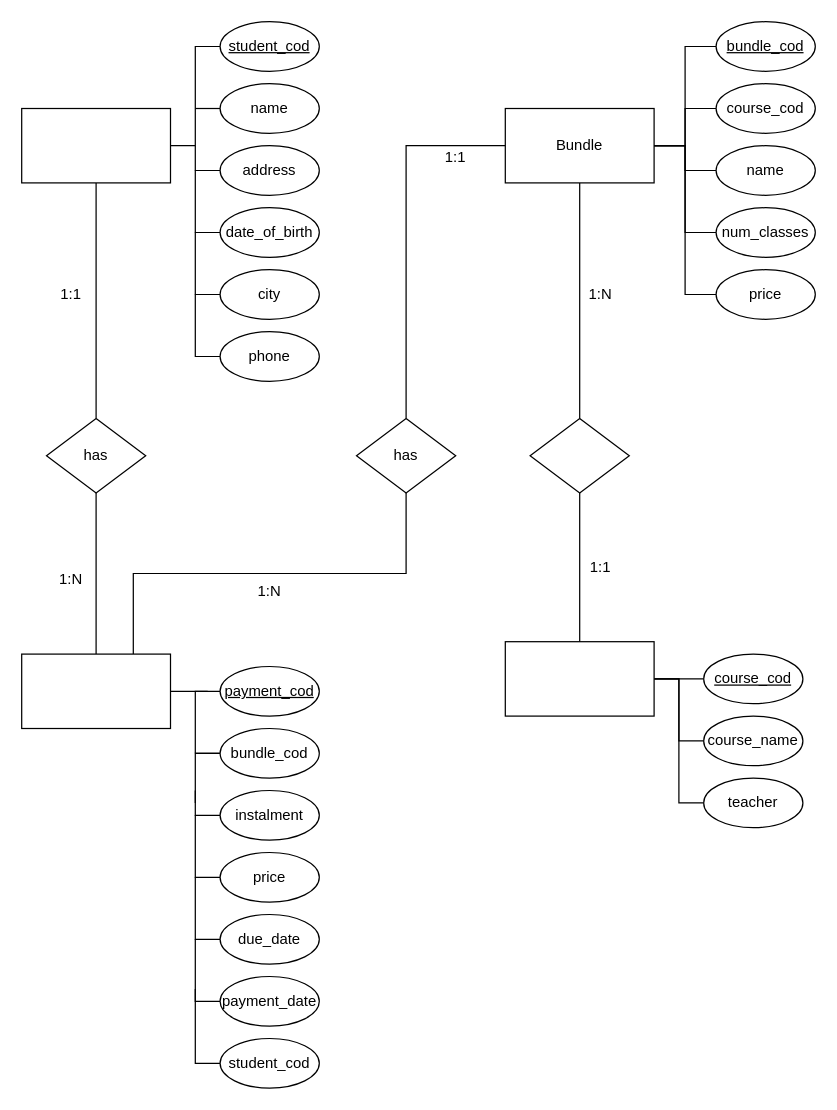
Some shapes in this 837 by 1110 pixel diagram are drawn without their labels. Here are the shapes that lost their labels. From the top down, the centre of each, then its label:
point (95, 145): Student
point (579, 455): belong
point (95, 690): Payment
point (579, 678): Course
